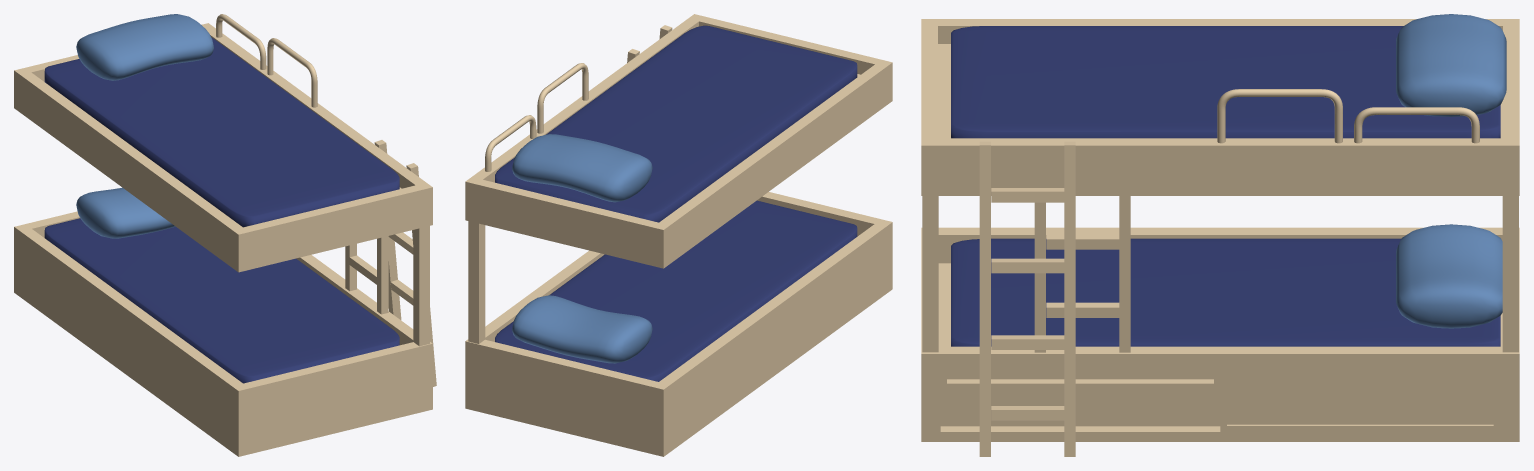
File: BunkBed.fbx
3 views of the same model, side by side, from view 1: azimuth 30°, elevation 25°; view 2: azimuth 150°, elevation 25°; view 3: azimuth 270°, elevation 25° (orthographic). The views are drawn at different scales.
Parts seen in each view (by area): view 1: Bed_Frame, Top_Matress, Bottom_Matress, Top_Frame, Top_Pillow, Bottom_Pillow, Left_Frame, Support_Ladder, Ladder, Bar_Tall, Bar_Small; view 2: Bed_Frame, Top_Matress, Top_Frame, Bottom_Matress, Bottom_Pillow, Top_Pillow, Right_Frame, Bar_Tall, Bar_Small; view 3: Bed_Frame, Top_Matress, Bottom_Matress, Top_Frame, Ladder, Bottom_Pillow, Top_Pillow, Support_Ladder, Left_Frame, Right_Frame, Bar_Tall, Bar_Small.
Part boxes in pixels (x1=…): Bed_Frame: x1=14, y1=211, x2=432, y2=456; Top_Matress: x1=44, y1=37, x2=399, y2=227; Bottom_Matress: x1=44, y1=218, x2=399, y2=383; Top_Frame: x1=14, y1=23, x2=432, y2=272; Top_Pillow: x1=76, y1=14, x2=213, y2=80; Bottom_Pillow: x1=76, y1=187, x2=175, y2=238; Left_Frame: x1=413, y1=226, x2=429, y2=346; Support_Ladder: x1=345, y1=236, x2=388, y2=314; Ladder: x1=374, y1=140, x2=436, y2=386; Bar_Tall: x1=267, y1=38, x2=317, y2=107; Bar_Small: x1=216, y1=14, x2=266, y2=69; Bed_Frame: x1=465, y1=192, x2=892, y2=456; Top_Matress: x1=495, y1=25, x2=857, y2=222; Top_Frame: x1=465, y1=14, x2=892, y2=268; Bottom_Matress: x1=495, y1=200, x2=857, y2=381; Bottom_Pillow: x1=512, y1=295, x2=652, y2=363; Top_Pillow: x1=512, y1=134, x2=652, y2=202; Right_Frame: x1=468, y1=221, x2=485, y2=343; Bar_Tall: x1=537, y1=63, x2=588, y2=133; Bar_Small: x1=485, y1=115, x2=536, y2=171; Bed_Frame: x1=921, y1=227, x2=1519, y2=441; Top_Matress: x1=951, y1=26, x2=1500, y2=138; Bottom_Matress: x1=951, y1=238, x2=1500, y2=346; Top_Frame: x1=921, y1=19, x2=1519, y2=195; Ladder: x1=979, y1=141, x2=1075, y2=456; Bottom_Pillow: x1=1396, y1=224, x2=1502, y2=328; Top_Pillow: x1=1396, y1=14, x2=1506, y2=116; Support_Ladder: x1=1034, y1=196, x2=1130, y2=352; Left_Frame: x1=922, y1=196, x2=938, y2=352; Right_Frame: x1=1502, y1=196, x2=1518, y2=352; Bar_Tall: x1=1217, y1=89, x2=1342, y2=143; Bar_Small: x1=1354, y1=107, x2=1479, y2=143.
Bounding box in the file's own units: 1000 × 643 × 566.
